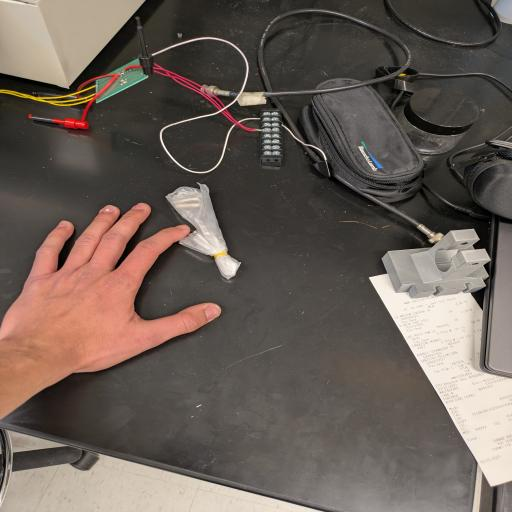rubberband: (161, 180, 244, 284)
